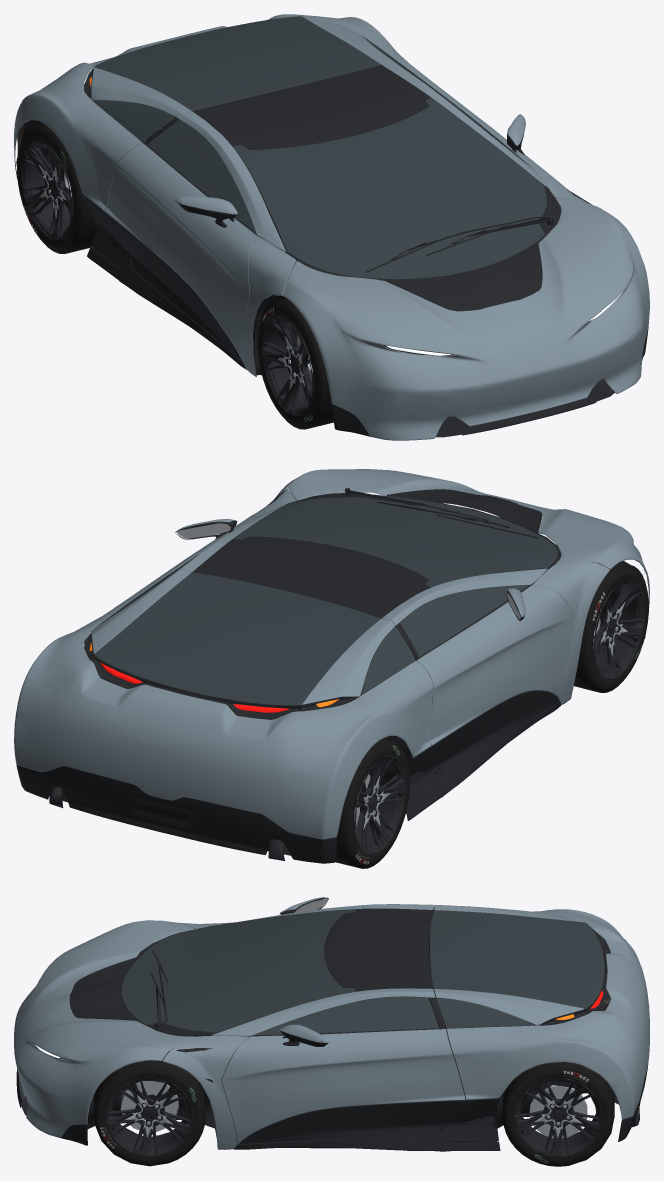
Rendered from concept-traffic.glb.
3 views of the same model, one above another, from view 1: azimuth 30°, elevation 25°; view 2: azimuth 150°, elevation 25°; view 3: azimuth 270°, elevation 25° (orthographic). The views are drawn at different scales.
Visible parts, largest first — view 1: Body, WheelFrontR, WheelRearR; view 2: Body, WheelRearR, WheelFrontR; view 3: Body, WheelFrontL, WheelRearL.
Boxes of the visible parts, x1,y1,x2,y2 form: Body: (14, 14, 649, 440); WheelFrontR: (257, 298, 333, 429); WheelRearR: (17, 124, 95, 253); Body: (14, 469, 649, 863); WheelRearR: (335, 738, 409, 868); WheelFrontR: (574, 562, 648, 692); Body: (14, 897, 649, 1151); WheelFrontL: (93, 1057, 205, 1166); WheelRearL: (502, 1062, 614, 1166).
Size of the model in its own units: 2.34 by 1.15 by 4.36.
Materials: 10 (1 with a texture image).
